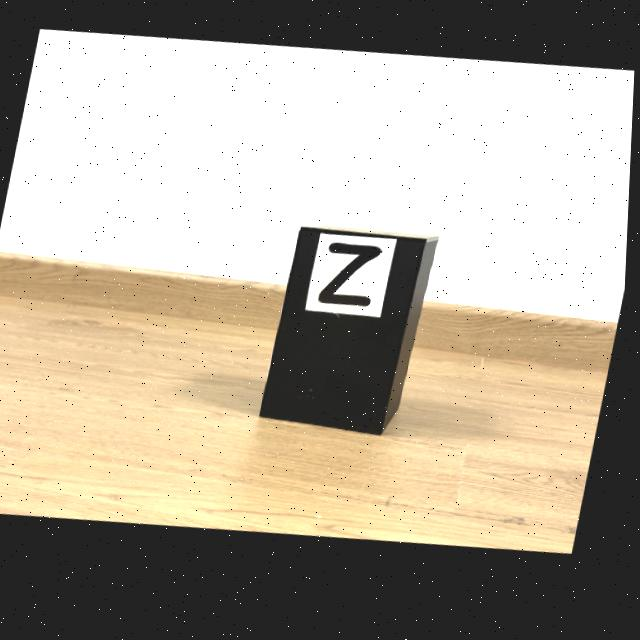Z: (322, 249, 384, 314)
